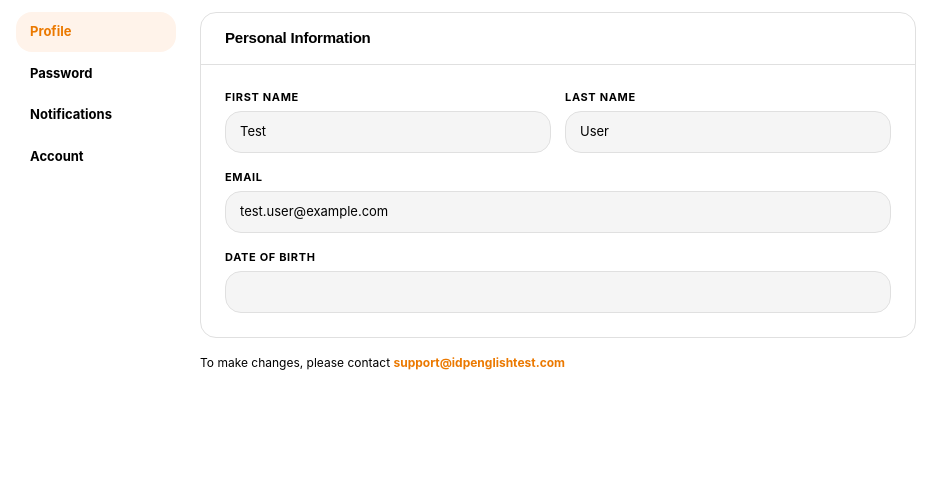
Test case: Settings › Password Tab › displays error when current password is incorrect
Click the tab "Password" at {"x": 96, "y": 73}, box [16,54,176,93]
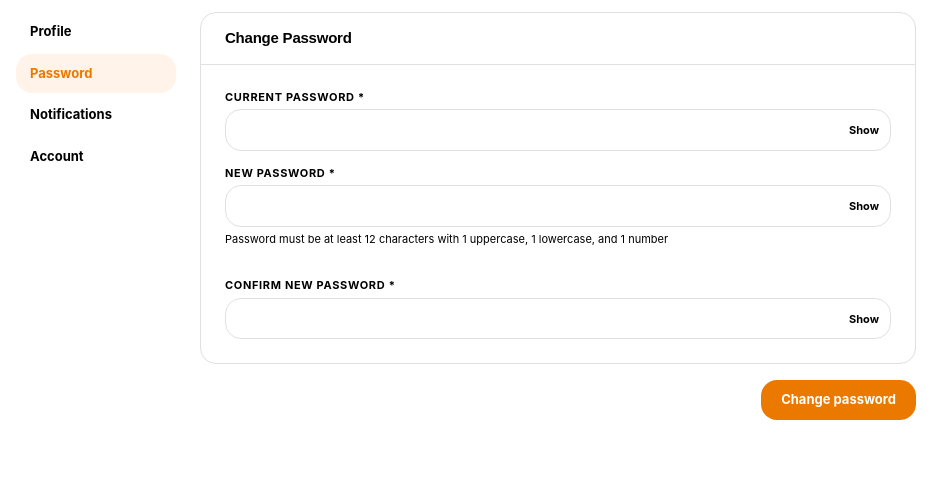
Type "WrongPass123!" into the password field labelled "Current Password *" at {"x": 558, "y": 130}, box [225,109,891,151]
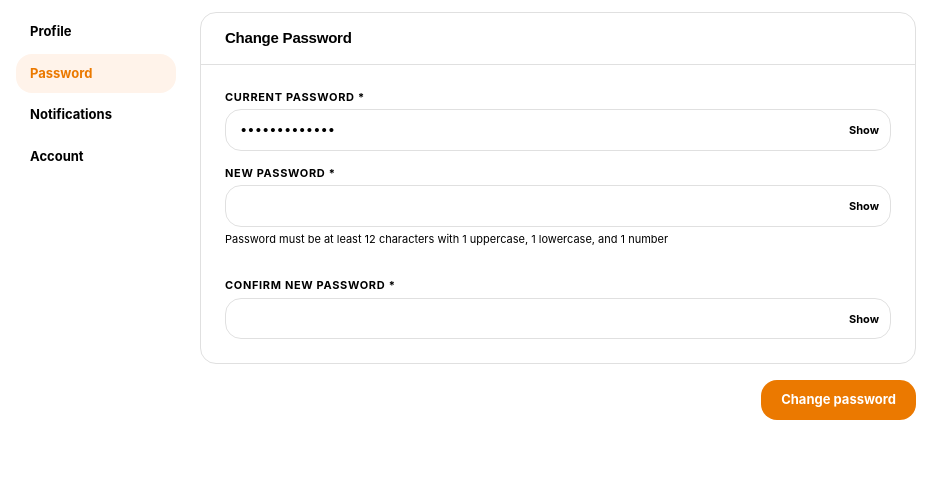
Type "NewPassword123!" into the password field with id "new-password" at {"x": 558, "y": 206}, box [225,185,891,227]
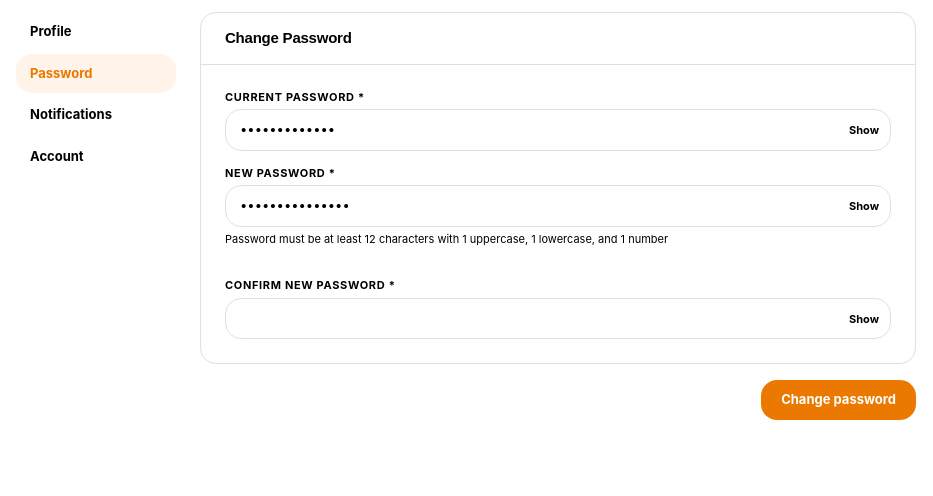
Type "NewPassword123!" into the password field labelled "Confirm New Password *" at {"x": 558, "y": 319}, box [225,298,891,339]
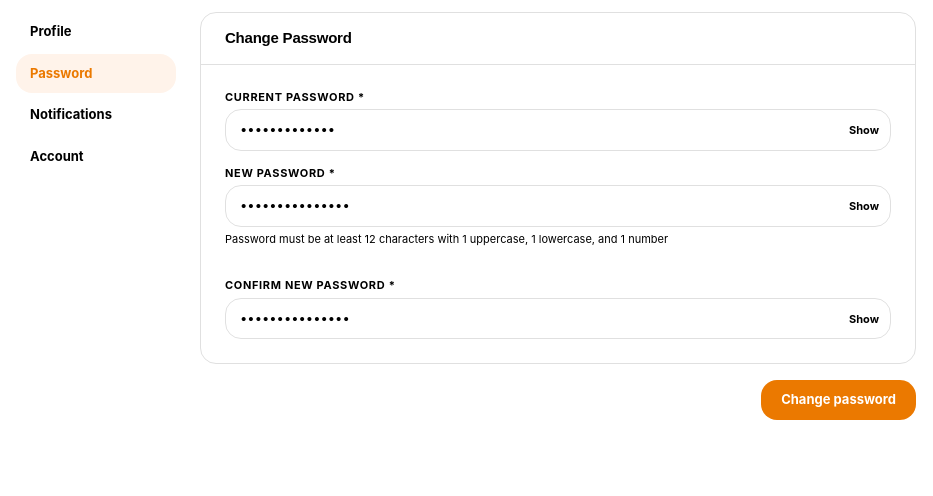
Click the button "Change password" at {"x": 839, "y": 400}, box [761,380,916,420]
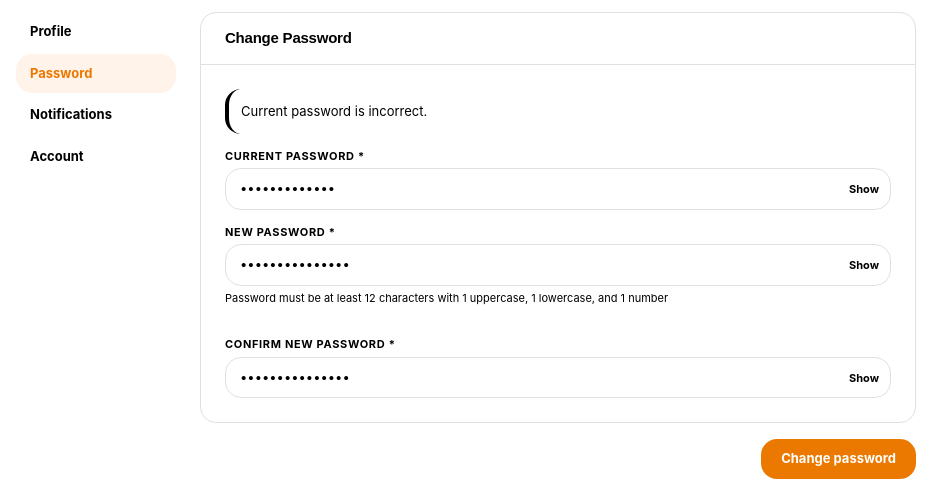
Expected: the text "Current password is incorrect." is shown, [241,103,427,119]
